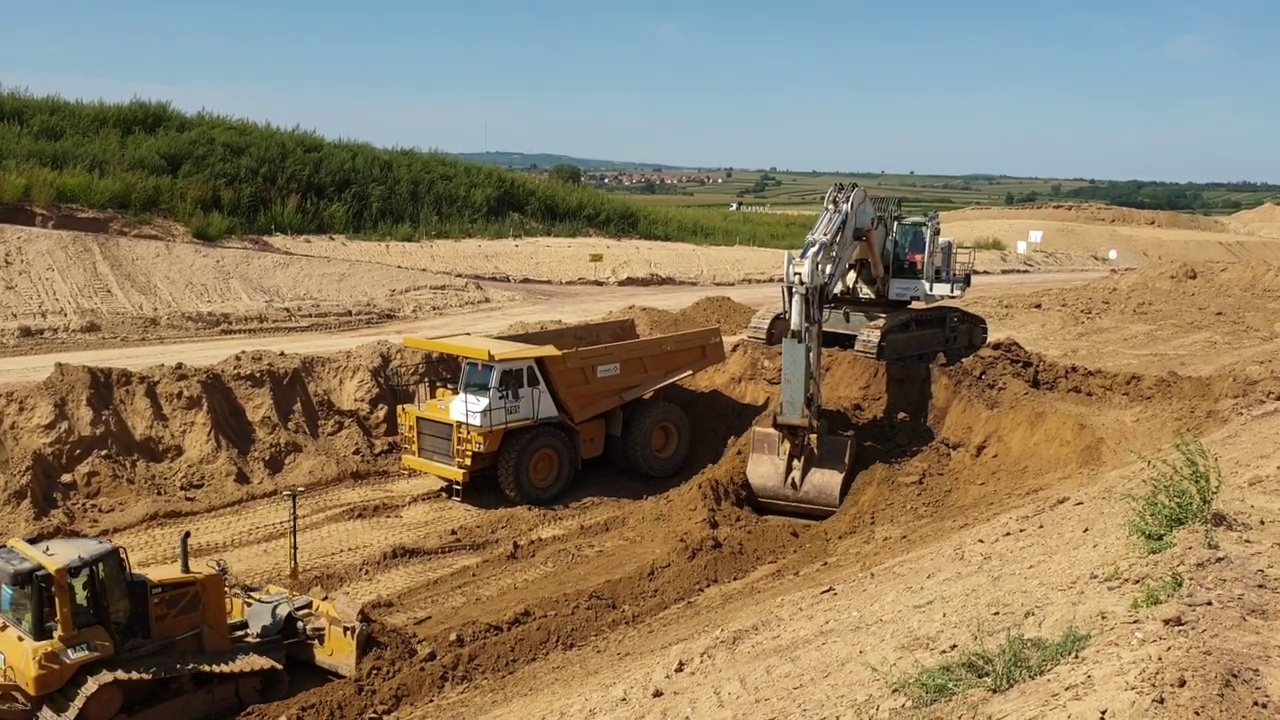bulldozer: (1, 483, 383, 720)
excavator: (739, 176, 991, 521)
truck: (373, 310, 732, 510)
